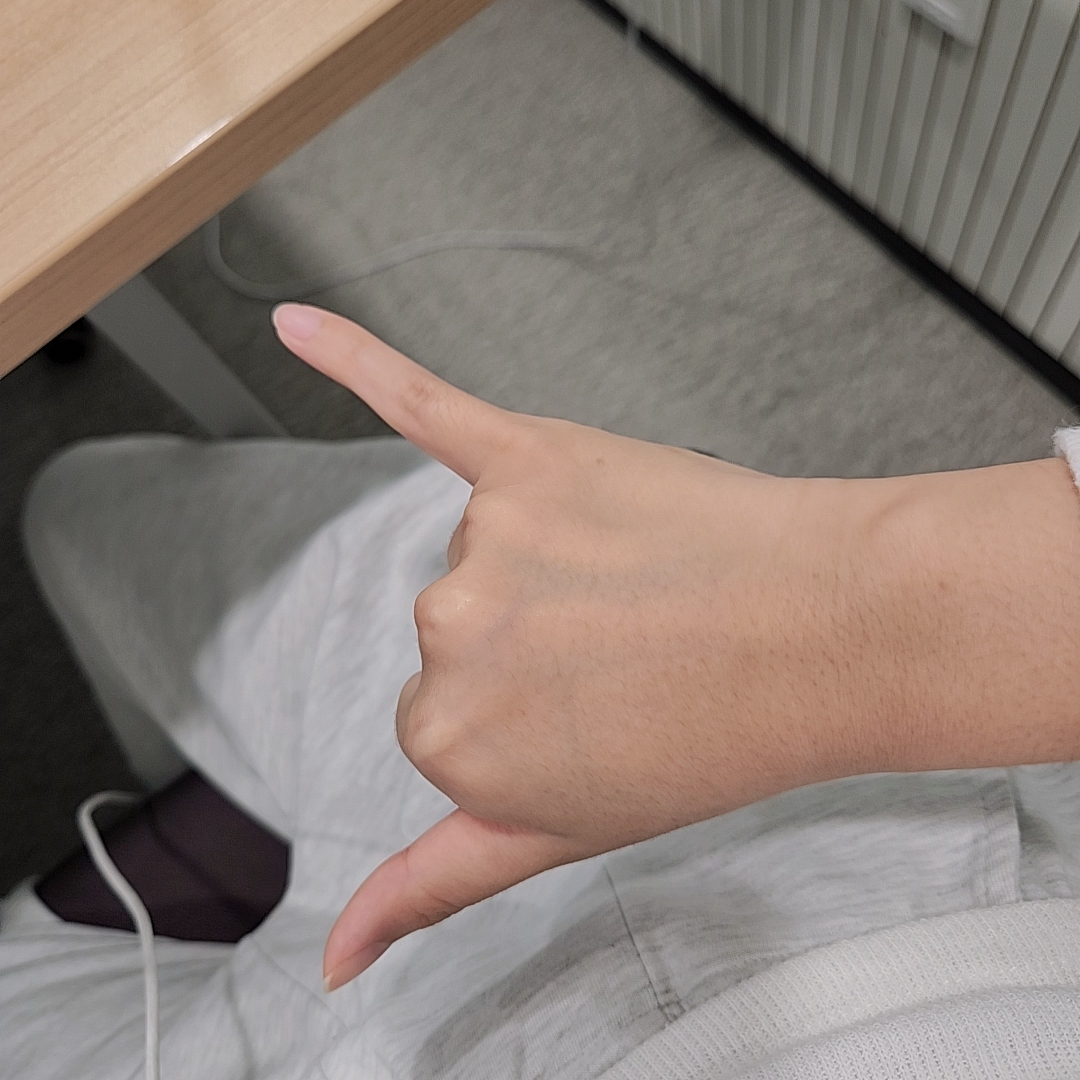call: (272, 298, 795, 993)
